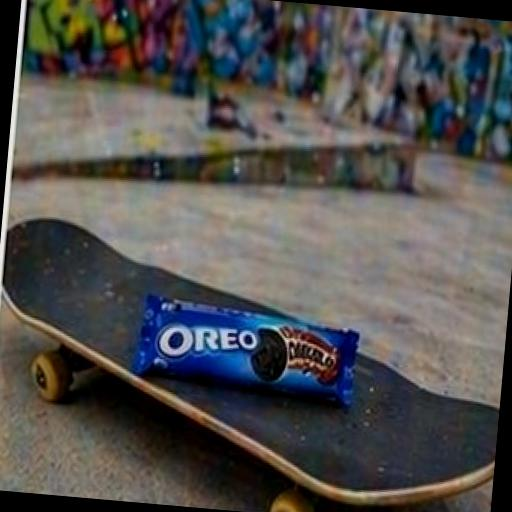oreo: (110, 255, 434, 476)
